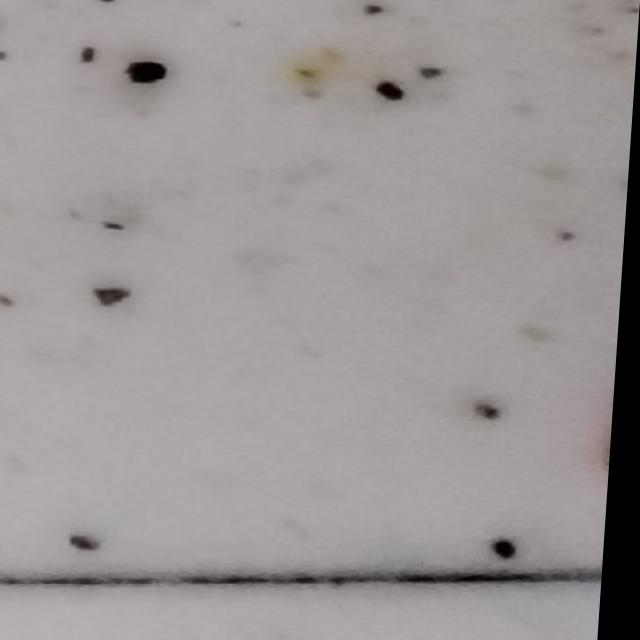varroa: (123, 59, 169, 88), (495, 544, 530, 566)
